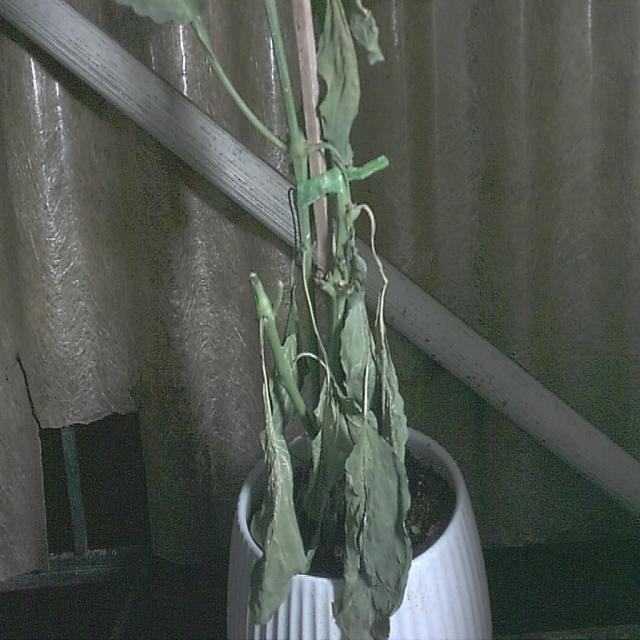Leaf: (332, 423, 413, 640)
